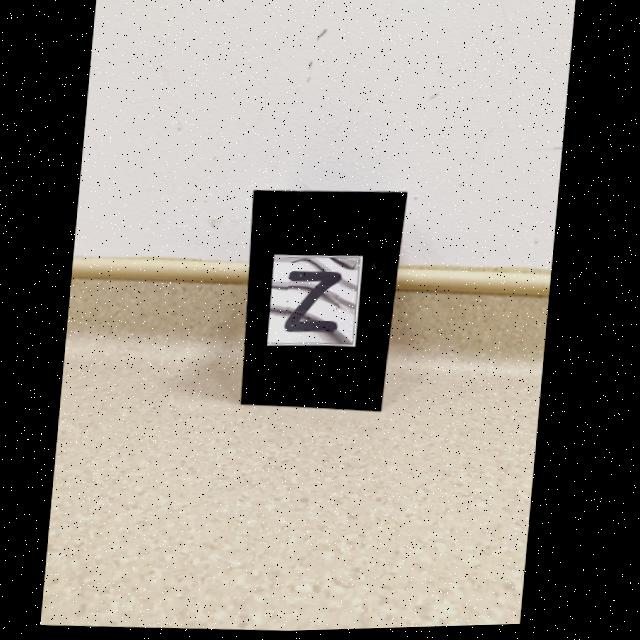Z: (287, 273, 343, 333)
